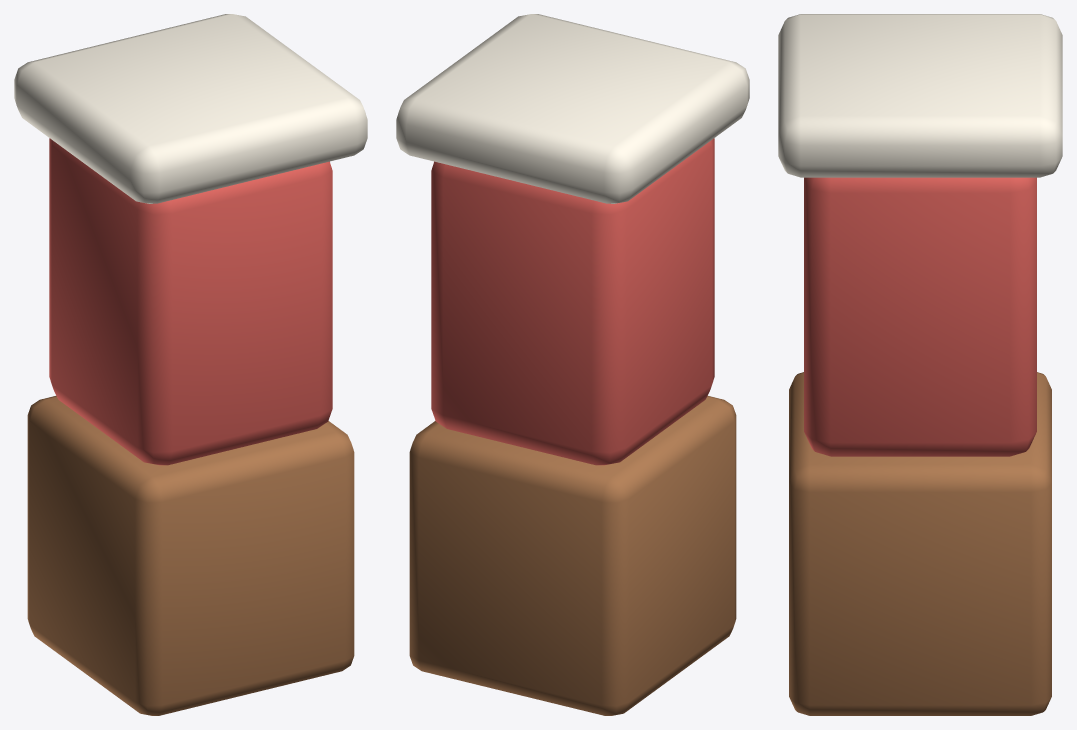
Rendered from baseboard-doorway-post.glb.
The picture shows the model from 3 angles, left to right: view 1: azimuth 30°, elevation 25°; view 2: azimuth 150°, elevation 25°; view 3: azimuth 270°, elevation 25°; orthographic projection. The views are drawn at different scales.
Visible parts, largest first — view 1: ShellBaseboardDoorPost_Base, ShellBaseboardDoorPost_Post, ShellBaseboardDoorPost_Cap; view 2: ShellBaseboardDoorPost_Base, ShellBaseboardDoorPost_Post, ShellBaseboardDoorPost_Cap; view 3: ShellBaseboardDoorPost_Base, ShellBaseboardDoorPost_Post, ShellBaseboardDoorPost_Cap.
Boxes of the visible parts, box(x1,y1,x2,y2) form: ShellBaseboardDoorPost_Base: box(27, 396, 354, 715); ShellBaseboardDoorPost_Post: box(49, 138, 332, 465); ShellBaseboardDoorPost_Cap: box(14, 14, 367, 203); ShellBaseboardDoorPost_Base: box(409, 396, 736, 715); ShellBaseboardDoorPost_Post: box(431, 138, 714, 465); ShellBaseboardDoorPost_Cap: box(396, 14, 749, 203); ShellBaseboardDoorPost_Base: box(789, 372, 1051, 715); ShellBaseboardDoorPost_Post: box(804, 177, 1036, 456); ShellBaseboardDoorPost_Cap: box(778, 14, 1062, 177).
Bounding box in the file's own units: 0.19 × 0.445 × 0.19.
